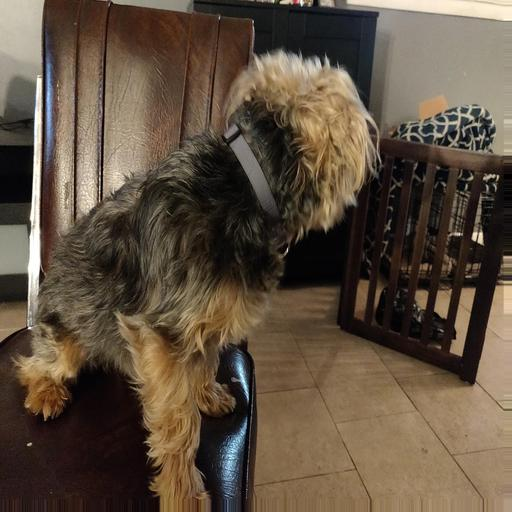dog: (81, 60, 378, 357)
